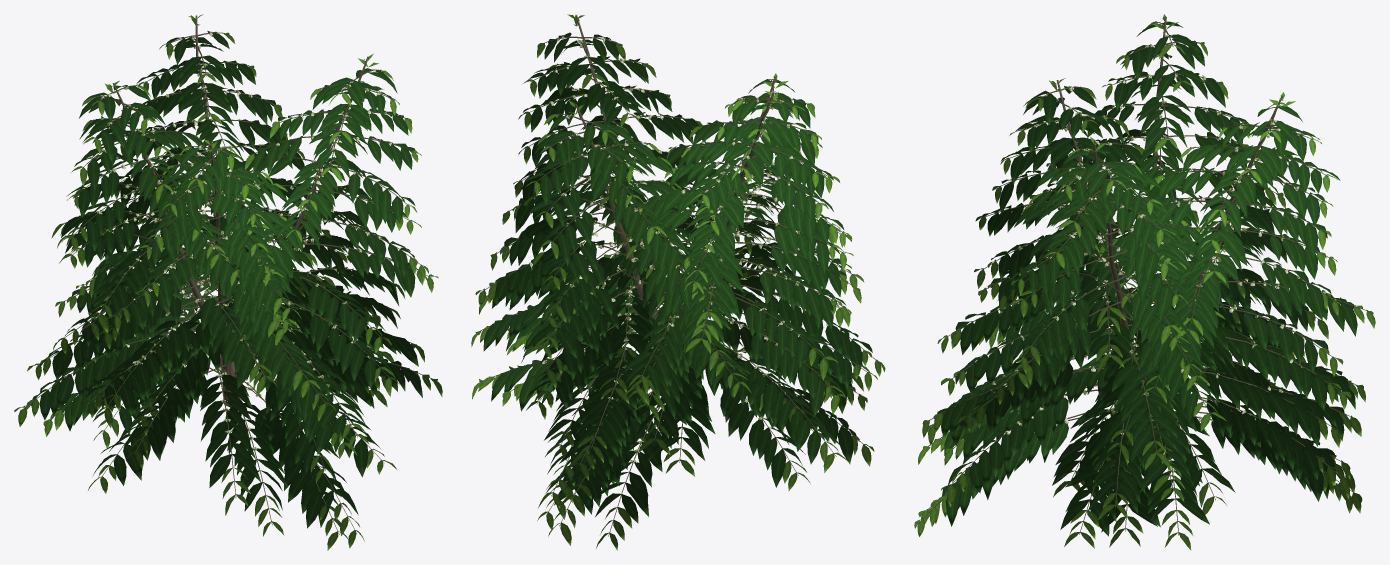
The model's file is coffea-robusta-mature-lod0.glb.
3 renders of one model, left to right at view 1: azimuth 30°, elevation 25°; view 2: azimuth 150°, elevation 25°; view 3: azimuth 270°, elevation 25°, orthographic. The views are drawn at different scales.
Visible parts, largest first — view 1: coffee_leaves, coffee_bark, coffee_cherries_green, coffee_flowers; view 2: coffee_leaves, coffee_bark, coffee_flowers, coffee_cherries_green; view 3: coffee_leaves, coffee_bark, coffee_cherries_green, coffee_flowers.
Part boxes in pixels (x1,y1,x2,y2): coffee_leaves: (14,14,442,550); coffee_bark: (25,15,436,534); coffee_cherries_green: (97,31,391,450); coffee_flowers: (97,31,392,450); coffee_leaves: (471,14,885,550); coffee_bark: (476,15,876,536); coffee_flowers: (529,37,828,463); coffee_cherries_green: (529,37,805,462); coffee_leaves: (914,14,1375,550); coffee_bark: (923,18,1370,535); coffee_cherries_green: (991,24,1302,481); coffee_flowers: (990,24,1302,482).
Size of the model in its own units: 3.01 by 3.17 by 2.96.
4 materials, 2 textured.
